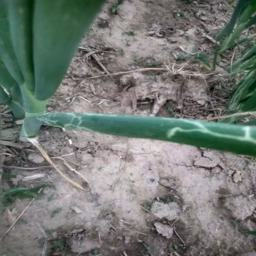liriomyza: (162, 117, 256, 145), (33, 110, 107, 133)
